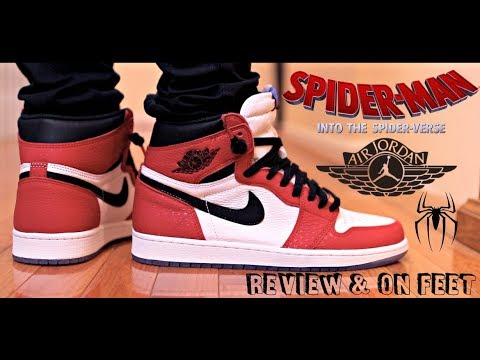Air Jordan 1 Spiderman: (132, 85, 419, 272), (5, 87, 147, 268)
